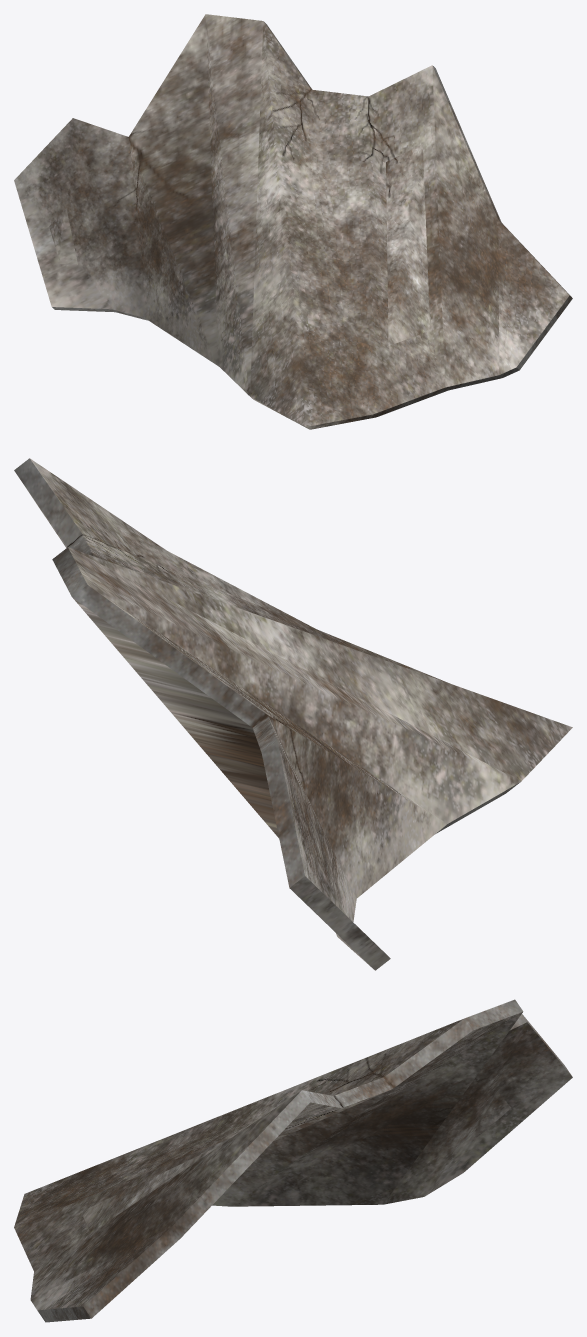
File: RuinaEdificio4.obj
The picture shows the model from 3 angles, top to bottom: view 1: azimuth 30°, elevation 25°; view 2: azimuth 150°, elevation 25°; view 3: azimuth 270°, elevation 25°; orthographic projection. The views are drawn at different scales.
Visible parts, largest first — view 1: Object021; view 2: Object021; view 3: Object021.
Boxes of the visible parts, box(x1,y1,x2,y2) form: Object021: box(14, 14, 572, 429); Object021: box(14, 458, 572, 970); Object021: box(14, 999, 572, 1322).
Bounding box in the file's own units: 35.77 × 22.49 × 42.12.
Materials: 1 (1 with a texture image).
